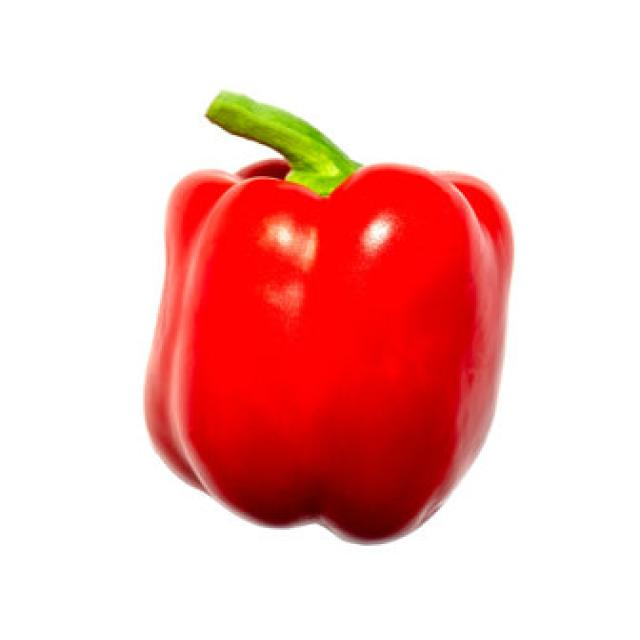Bell Pepper: (141, 87, 514, 546)
